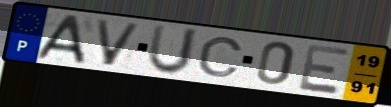0: (254, 40, 298, 88)
A: (33, 14, 89, 65)
C: (195, 35, 246, 79)
E: (297, 42, 353, 96)
U: (144, 22, 202, 77)
V: (93, 18, 145, 69)
